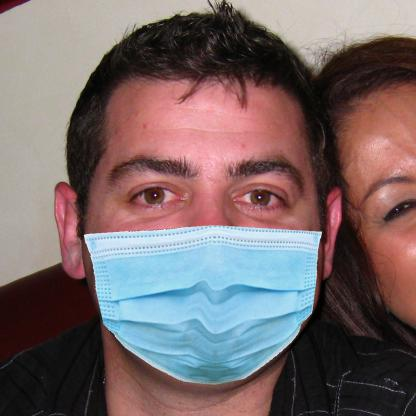Correctly_Masked: (83, 73, 322, 386)
